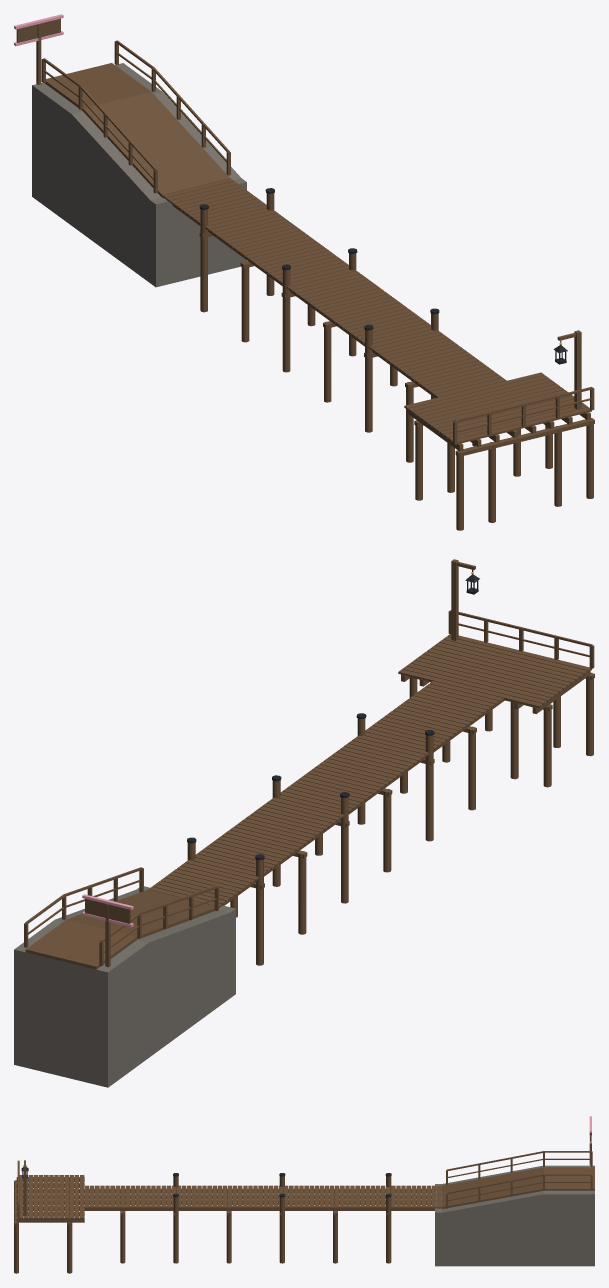
The model's file is SM_ObeliskGirls_Jetty.fbx.
3 renders of one model, top to bottom at view 1: azimuth 30°, elevation 25°; view 2: azimuth 150°, elevation 25°; view 3: azimuth 270°, elevation 25°, orthographic. The views are drawn at different scales.
Parts seen in each view (by area): view 1: SM_ObeliskGirls_Jetty; view 2: SM_ObeliskGirls_Jetty; view 3: SM_ObeliskGirls_Jetty.
Boxes of the visible parts, x1,y1,x2,y2 form: SM_ObeliskGirls_Jetty: (14,14,594,530); SM_ObeliskGirls_Jetty: (14,559,594,1087); SM_ObeliskGirls_Jetty: (14,1116,594,1273).
Bounding box in the file's own units: 6.12 × 7.45 × 34.15.
